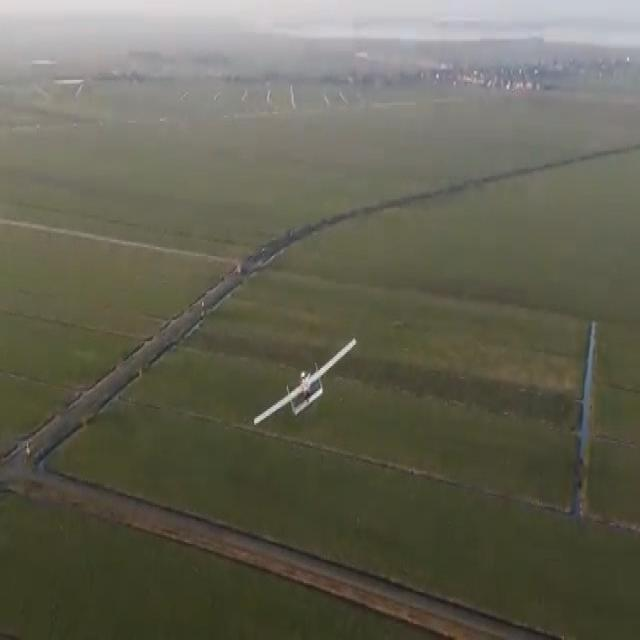drones: (251, 334, 360, 427)
